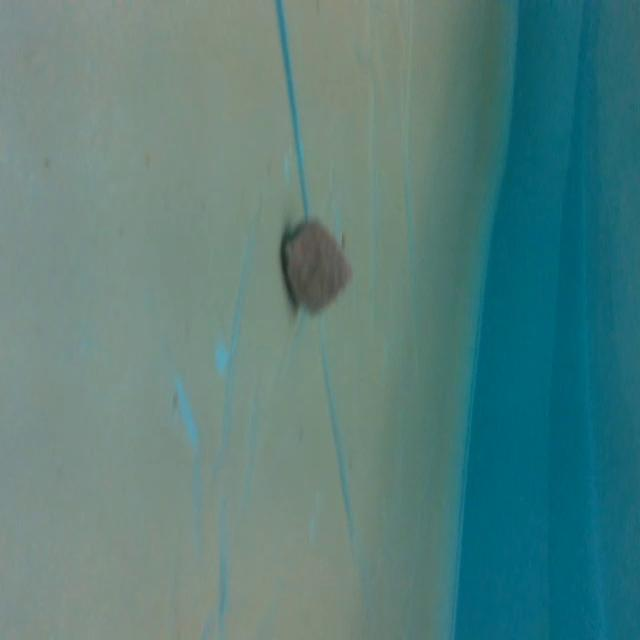rock: (279, 218, 360, 320)
